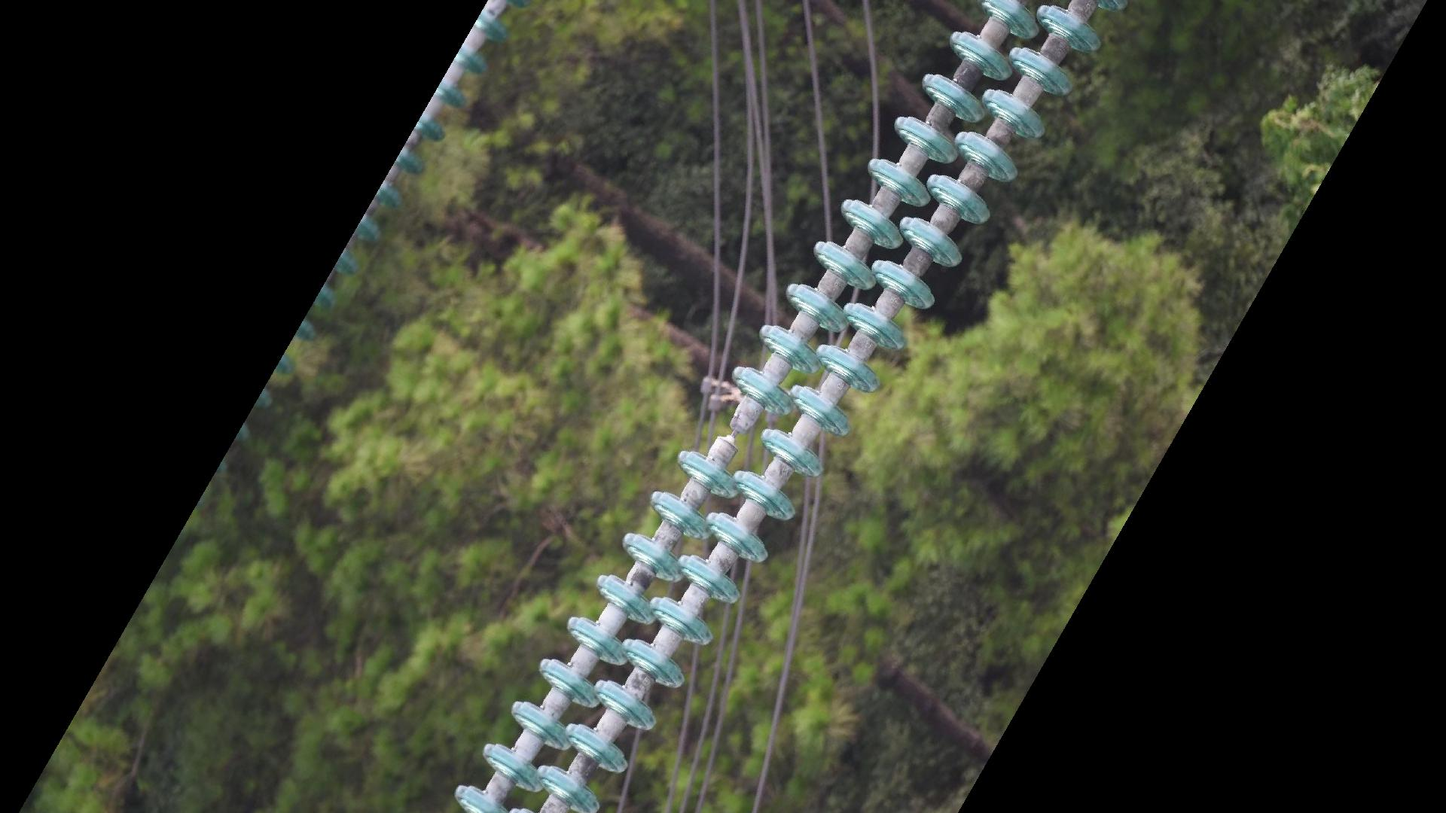insulator: (452, 1, 1106, 813)
insulator_stringdrop: (673, 359, 798, 503)
